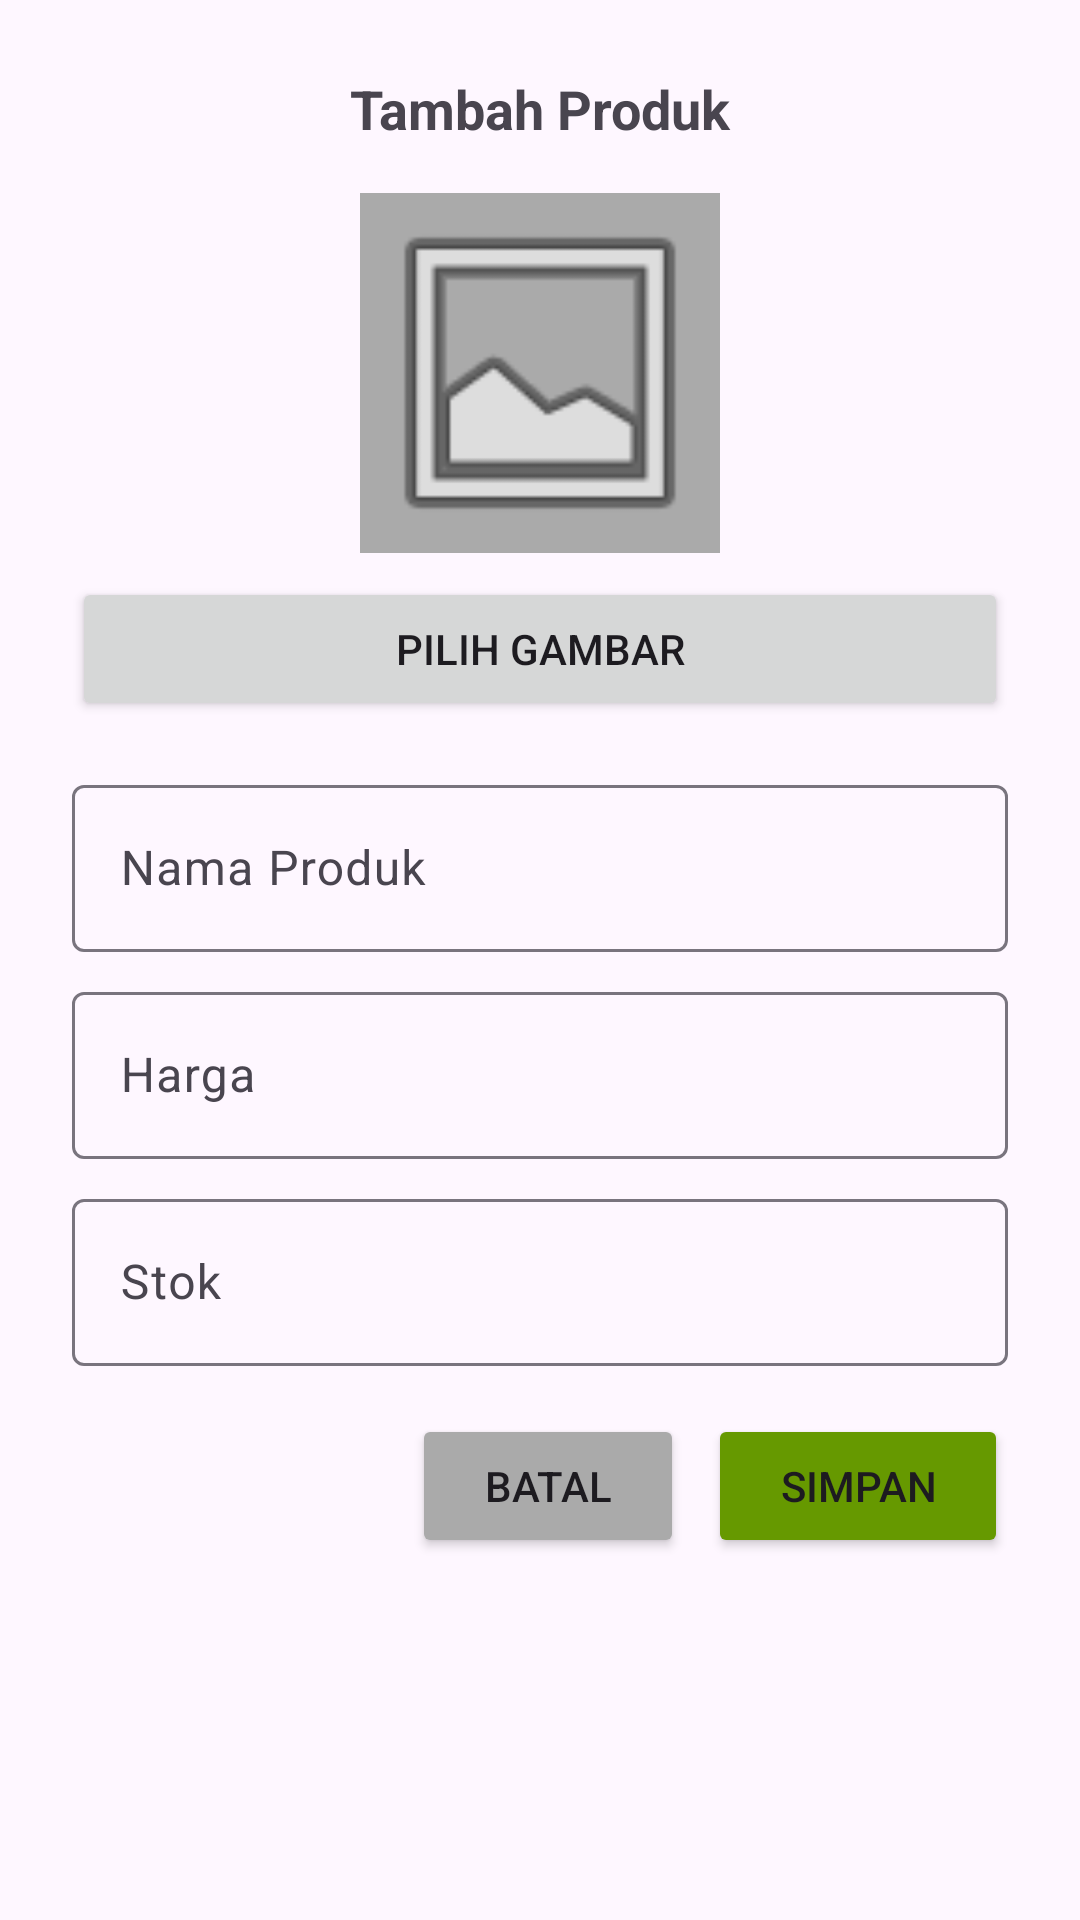

Named icons in this screenshot (1080w x 1920h) and their bounding boxes, (x1, y1, x2, y2):
Product image preview: (360, 193, 720, 553)
